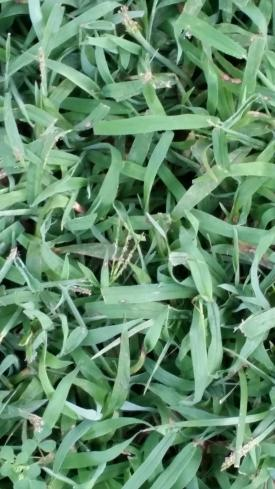crabgrass: (6, 3, 275, 485)
